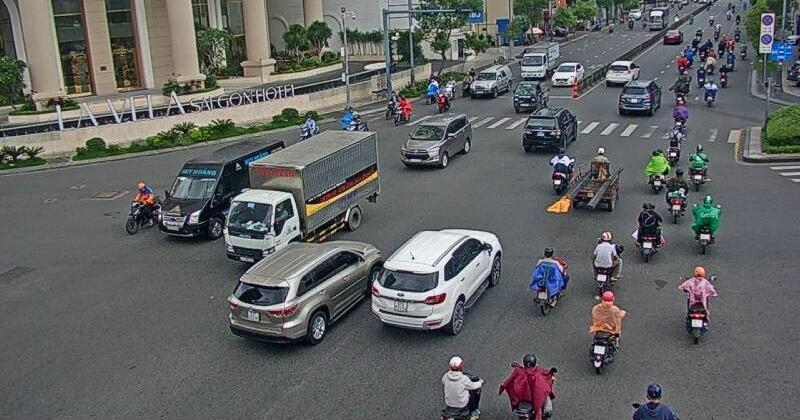xe hoi: (223, 235, 383, 350), (370, 223, 506, 336), (401, 111, 472, 168), (522, 106, 578, 151), (619, 78, 662, 114), (468, 65, 508, 97), (512, 78, 549, 111), (605, 60, 639, 85), (551, 61, 584, 86)
xe may: (570, 146, 623, 213), (501, 354, 554, 420), (585, 286, 622, 372), (438, 355, 481, 420), (679, 263, 715, 340), (589, 228, 625, 296), (529, 246, 565, 312), (633, 201, 665, 261), (125, 181, 163, 231), (689, 195, 721, 252), (663, 166, 689, 222), (547, 148, 574, 192), (685, 142, 709, 191), (644, 148, 669, 191)
xe tai: (226, 128, 380, 265)
xe van: (158, 138, 290, 237)
